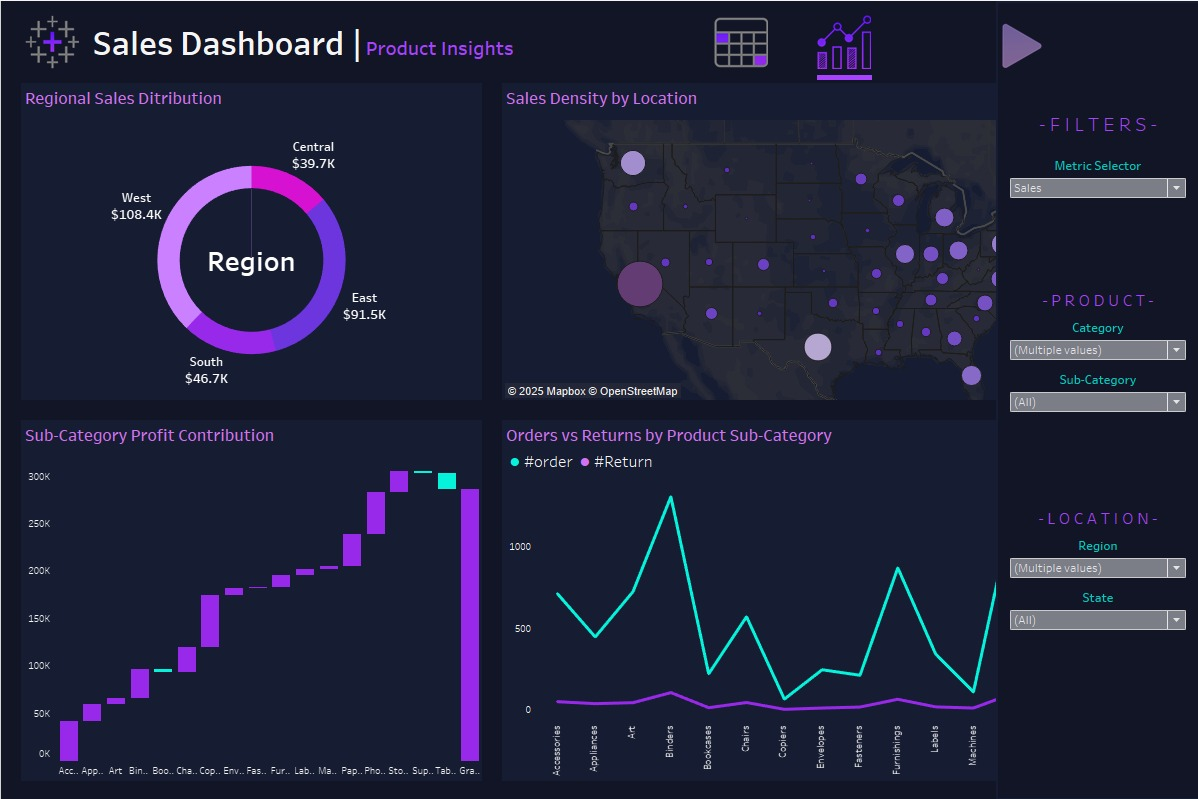

This screenshot's page, from the dashboard's own definition file:
{"tool":"tableau","page":{"name":"Product Insights","canvas":[1200,800],"ordinal":3},"visuals":[{"type":"blank","box":[1002,7,190,86]},{"type":"image","param":"C:/Users/Mohamed/Downloads/Icons & Images/contact-public copy.png","box":[20,10,65,62]},{"type":"text","box":[85,10,624,62]},{"type":"dashboard-object","box":[709,10,62,62]},{"type":"dashboard-object","box":[771,10,145,62]},{"type":"dashboard-object","box":[998,20,45,49]},{"type":"worksheet","title":"Donut Chart","mark":"Pie","rows":["Calculation_2536652501381914632","Calculation_2536652501381914632"],"box":[0,72,491,337]},{"type":"worksheet","title":"Map tooltip","mark":"Automatic","box":[491,72,709,337]},{"type":"blank","box":[816,74,55,5]},{"type":"text","box":[1002,93,190,59]},{"type":"parameter","param":"[Parameters].[Parameter 1]","box":[1002,152,190,52]},{"type":"blank","box":[1002,204,190,79]},{"type":"text","box":[1002,283,190,31]},{"type":"filter","title":"Donut Chart","param":"[federated.0ssqbv90mauq9e10izt7i0ur8s0m].[none:Category:nk]","box":[1002,314,190,52]},{"type":"filter","title":"Donut Chart","param":"[federated.0ssqbv90mauq9e10izt7i0ur8s0m].[none:Sub-Category:nk]","box":[1002,366,190,52]},{"type":"worksheet","title":"Waterfall Chart","mark":"GanttBar","rows":["Profit"],"cols":["Sub-Category"],"box":[0,409,490.9,391]},{"type":"worksheet","title":"order vs return","mark":"Line","rows":["Calculation_2536652501383270409","Returns_0DB5623BE8AA4F889E06FD371D31F921"],"cols":["Sub-Category"],"box":[490.9,409,709,391]},{"type":"blank","box":[1002,418,190,83]},{"type":"text","box":[1002,501,190,31]},{"type":"filter","title":"Donut Chart","param":"[federated.0ssqbv90mauq9e10izt7i0ur8s0m].[none:Region:nk]","box":[1002,532,190,52]},{"type":"filter","title":"Donut Chart","param":"[federated.0ssqbv90mauq9e10izt7i0ur8s0m].[none:State:nk]","box":[1002,584,190,52]}]}

Visuals, with their boxes in screenshot pixels (x1, y1, x2, y2), scaled from the page's 1200x800 canvas onto the 1198x799 screenshot:
blank: rect(1000, 7, 1190, 93)
image: rect(20, 10, 85, 72)
text: rect(85, 10, 708, 72)
dashboard-object: rect(708, 10, 770, 72)
dashboard-object: rect(770, 10, 914, 72)
dashboard-object: rect(996, 20, 1041, 69)
"Donut Chart" worksheet (Pie marks): rect(0, 72, 490, 408)
"Map tooltip" worksheet: rect(490, 72, 1197, 408)
blank: rect(815, 74, 870, 79)
text: rect(1000, 93, 1190, 152)
parameter: rect(1000, 152, 1190, 204)
blank: rect(1000, 204, 1190, 283)
text: rect(1000, 283, 1190, 314)
"Donut Chart" filter: rect(1000, 314, 1190, 366)
"Donut Chart" filter: rect(1000, 366, 1190, 417)
"Waterfall Chart" worksheet (GanttBar marks): rect(0, 408, 490, 798)
"order vs return" worksheet (Line marks): rect(490, 408, 1197, 798)
blank: rect(1000, 417, 1190, 500)
text: rect(1000, 500, 1190, 531)
"Donut Chart" filter: rect(1000, 531, 1190, 583)
"Donut Chart" filter: rect(1000, 583, 1190, 635)
